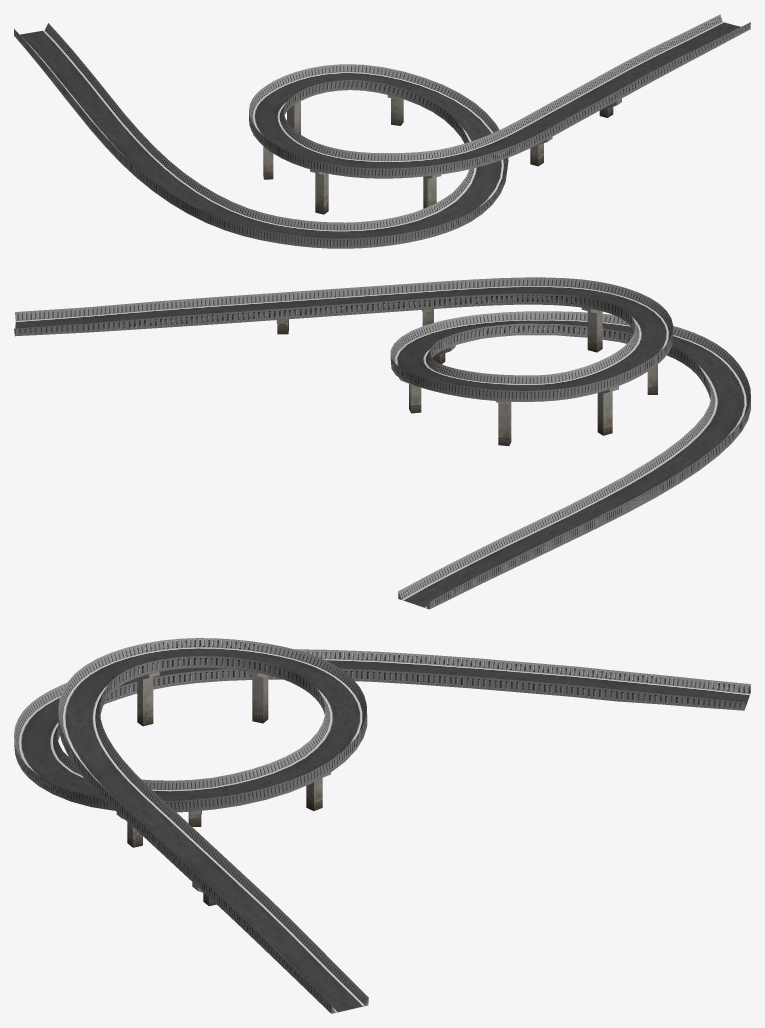
The model's file is China_track_landmark_07.dae.
The picture shows the model from 3 angles, top to bottom: view 1: azimuth 30°, elevation 25°; view 2: azimuth 150°, elevation 25°; view 3: azimuth 270°, elevation 25°; orthographic projection. The views are drawn at different scales.
Parts seen in each view (by area): view 1: China_track_landmark_07; view 2: China_track_landmark_07; view 3: China_track_landmark_07.
Boxes of the visible parts, left/top/right/bottom form: China_track_landmark_07: left=14, top=14, right=750, bottom=248; China_track_landmark_07: left=14, top=277, right=750, bottom=609; China_track_landmark_07: left=14, top=638, right=750, bottom=1013.
Size of the model in its own units: 13.87 by 12.21 by 1.28.
1 material, 1 textured.
